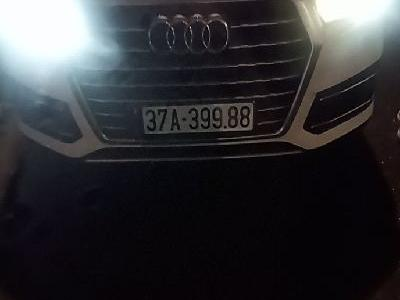number: (140, 102, 252, 135)
